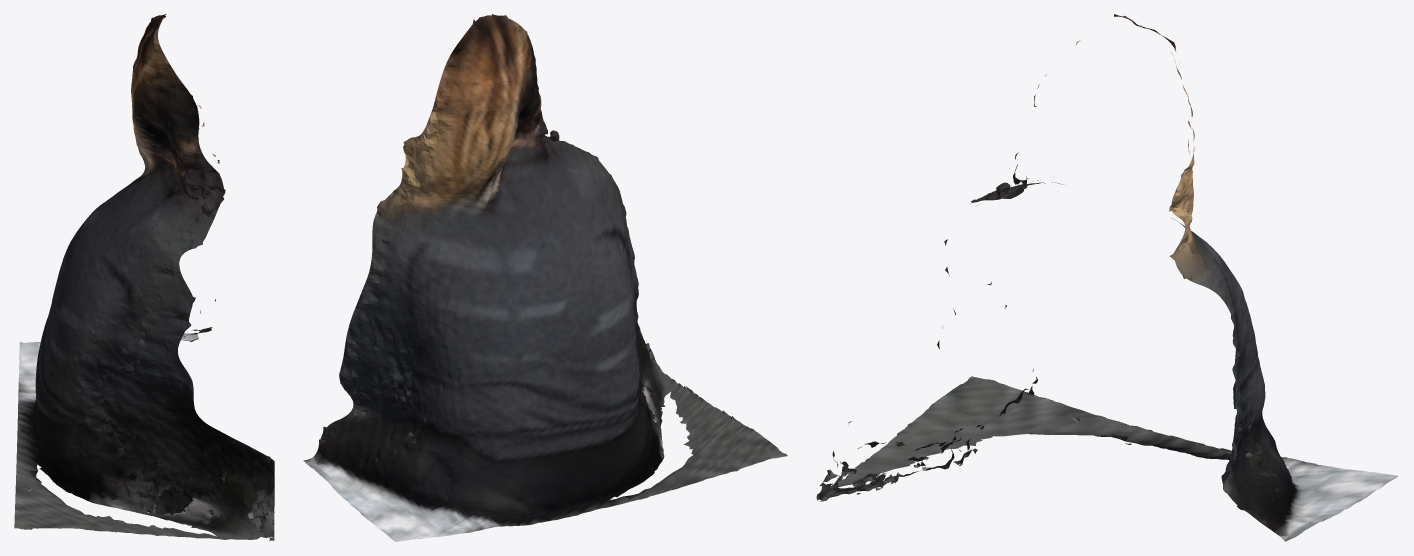
3 views of the same model, side by side, from view 1: azimuth 30°, elevation 25°; view 2: azimuth 150°, elevation 25°; view 3: azimuth 270°, elevation 25° (orthographic). The views are drawn at different scales.
Bounding box in the file's own units: 0.583 × 0.7385 × 0.786.
1 material, 1 textured.
